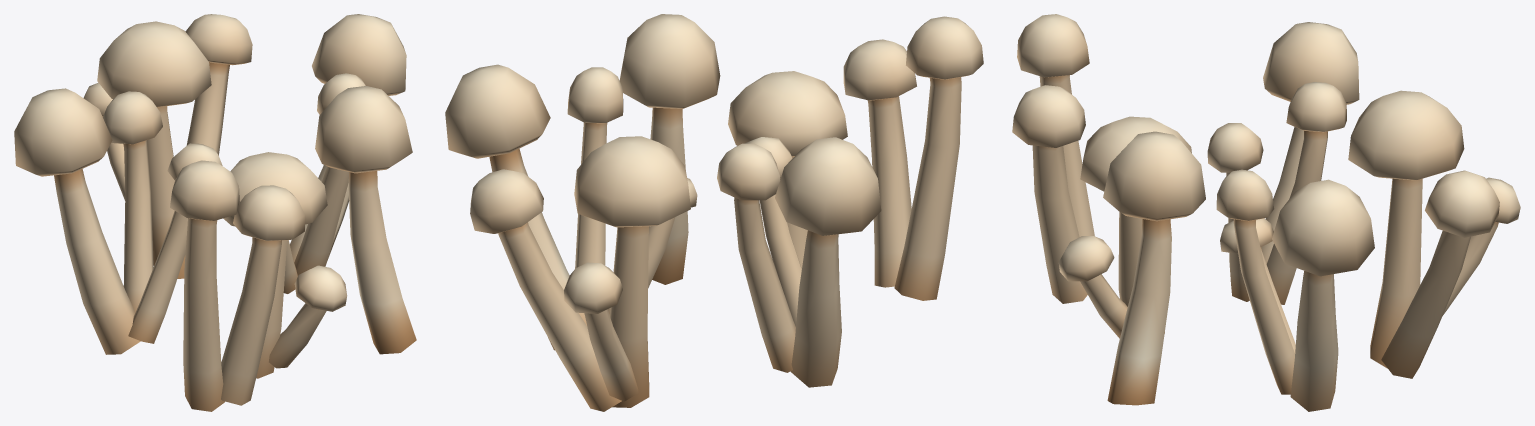
File: SM_Plant_WhiteBeech_Lv2.fbx
The picture shows the model from 3 angles, left to right: view 1: azimuth 30°, elevation 25°; view 2: azimuth 150°, elevation 25°; view 3: azimuth 270°, elevation 25°; orthographic projection. The views are drawn at different scales.
Parts seen in each view (by area): view 1: SM_Plant_WhiteBeech_Lv2; view 2: SM_Plant_WhiteBeech_Lv2; view 3: SM_Plant_WhiteBeech_Lv2.
Boxes of the visible parts, x1,y1,x2,y2 form: SM_Plant_WhiteBeech_Lv2: [14, 14, 416, 411]; SM_Plant_WhiteBeech_Lv2: [445, 14, 983, 411]; SM_Plant_WhiteBeech_Lv2: [1012, 14, 1520, 411].
Bounding box in the file's own units: 37.91 × 25.59 × 41.94.
